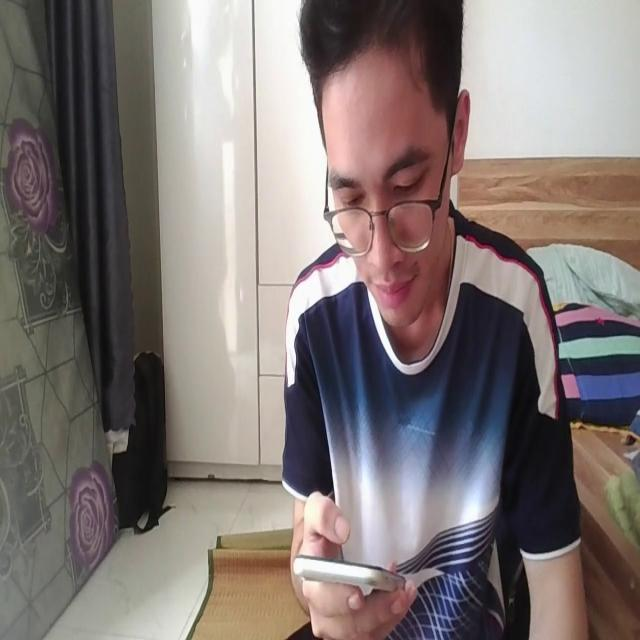phone: (289, 539, 413, 606)
student: (276, 1, 591, 640)
